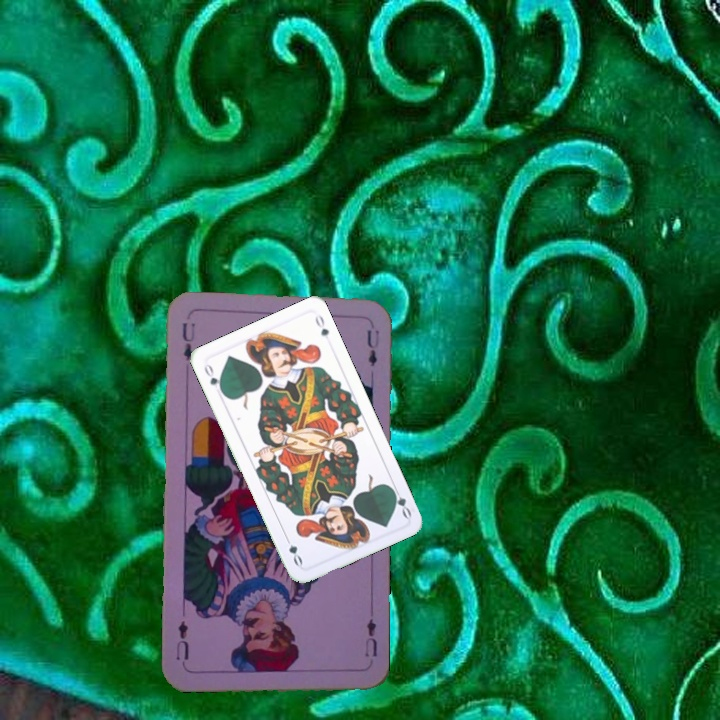EU: (361, 614, 380, 659), (178, 319, 197, 364)
GO: (387, 481, 414, 521), (200, 359, 226, 396)
